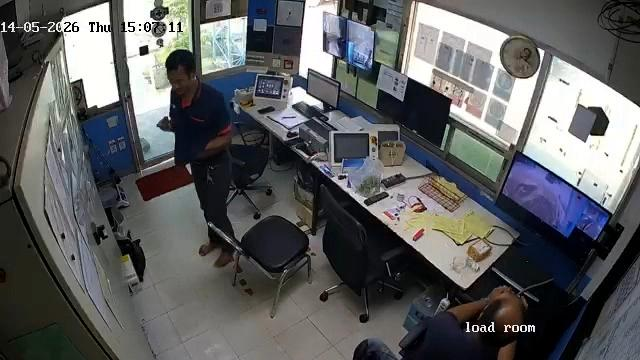Head: (481, 291, 525, 333), (165, 49, 198, 97)
People: (156, 48, 239, 261), (353, 287, 528, 360)
Phone: (257, 106, 277, 115)
